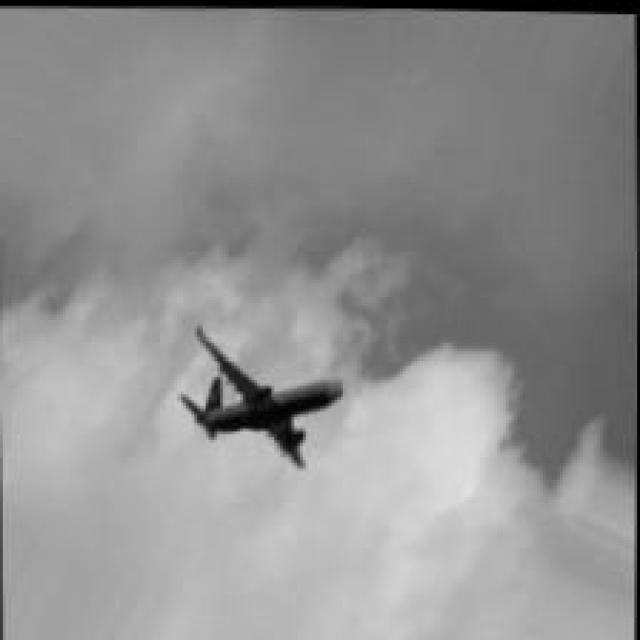aeroplane: (168, 314, 352, 480)
